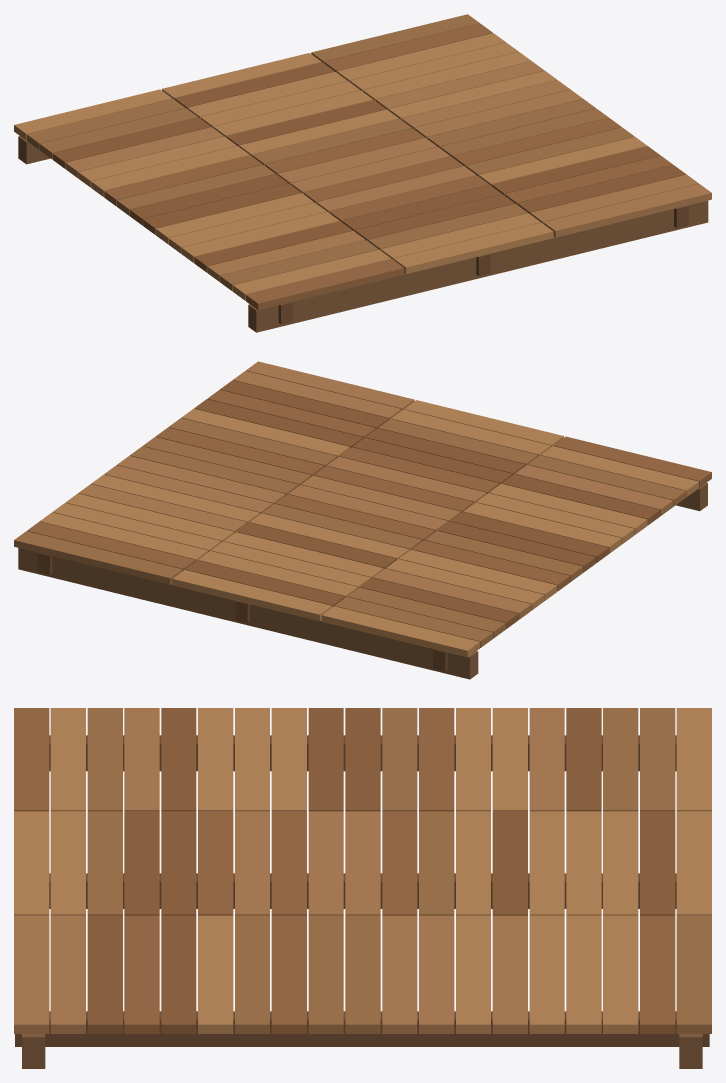
File: cedar-launch-deck.glb
3 views of the same model, one above another, from view 1: azimuth 30°, elevation 25°; view 2: azimuth 150°, elevation 25°; view 3: azimuth 270°, elevation 25° (orthographic). The views are drawn at different scales.
Parts seen in each view (by area): view 1: cedar-launch-deck; view 2: cedar-launch-deck; view 3: cedar-launch-deck.
Boxes of the visible parts, x1,y1,x2,y2 form: cedar-launch-deck: (14, 14, 711, 332); cedar-launch-deck: (14, 361, 711, 679); cedar-launch-deck: (14, 708, 711, 1068).
Size of the model in its own units: 12.86 by 0.85 by 11.98.
Materials: 1 (1 with a texture image).
